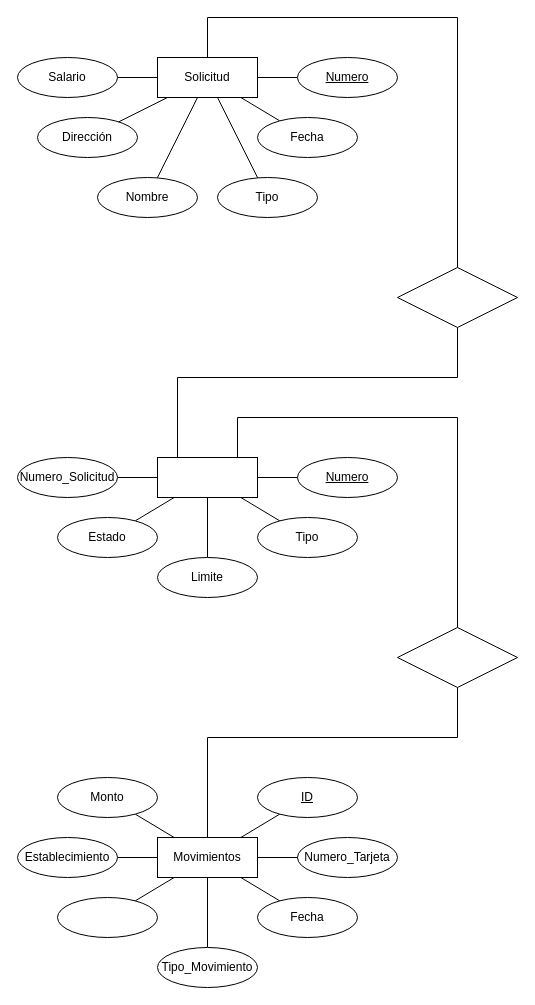
Image size: 535x1005. Some labels were removed from this diagram. Each missing label, with the box of its shape:
Descripción: (56, 896, 158, 938)
Pertenece: (396, 266, 518, 328)
Targeta: (156, 456, 258, 498)
Tiene: (396, 626, 518, 688)
